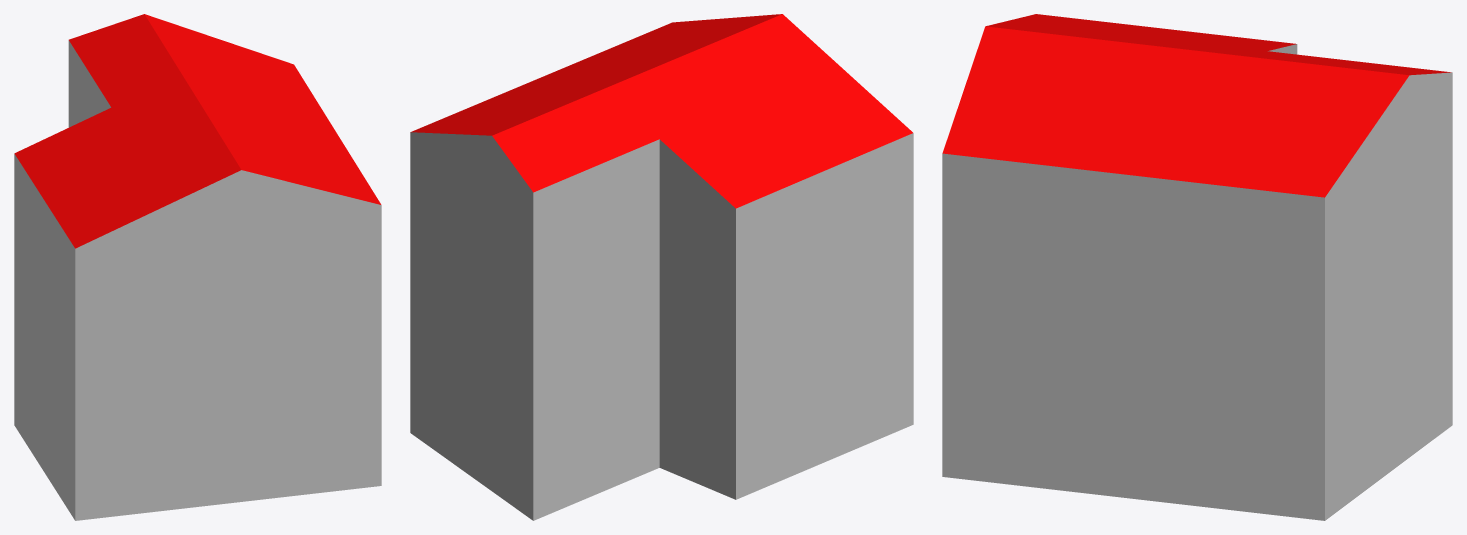
3 views of the same model, side by side, from view 1: azimuth 30°, elevation 25°; view 2: azimuth 150°, elevation 25°; view 3: azimuth 270°, elevation 25° (orthographic). The views are drawn at different scales.
Bounding box in the file's own units: 13.96 × 12.87 × 15.56.
